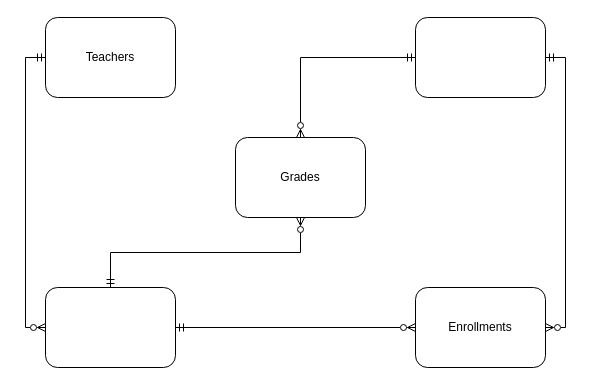
Some shapes in this 592 by 385 pixel diagram are drawn without their labels. The centre of each missing label's shape, as x and y in pixels:
"Courses" belongs at pixel 110 327.
"Students" belongs at pixel 480 57.
